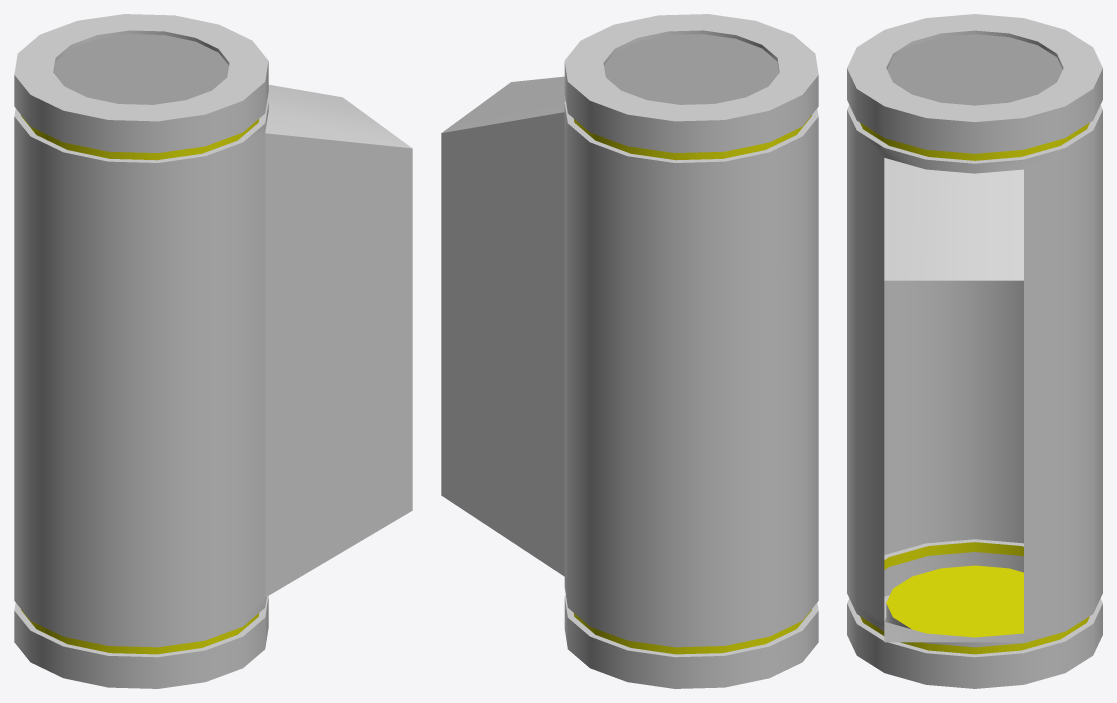
File: WallLight.fbx
3 renders of one model, left to right at view 1: azimuth 30°, elevation 25°; view 2: azimuth 150°, elevation 25°; view 3: azimuth 270°, elevation 25°, orthographic.
Parts seen in each view (by area): view 1: WallLight; view 2: WallLight; view 3: WallLight.
Boxes of the visible parts, left/top/right/bottom form: WallLight: left=14, top=14, right=412, bottom=688; WallLight: left=441, top=14, right=818, bottom=688; WallLight: left=847, top=14, right=1102, bottom=688.
Size of the model in its own units: 3.03 by 4.89 by 2.
